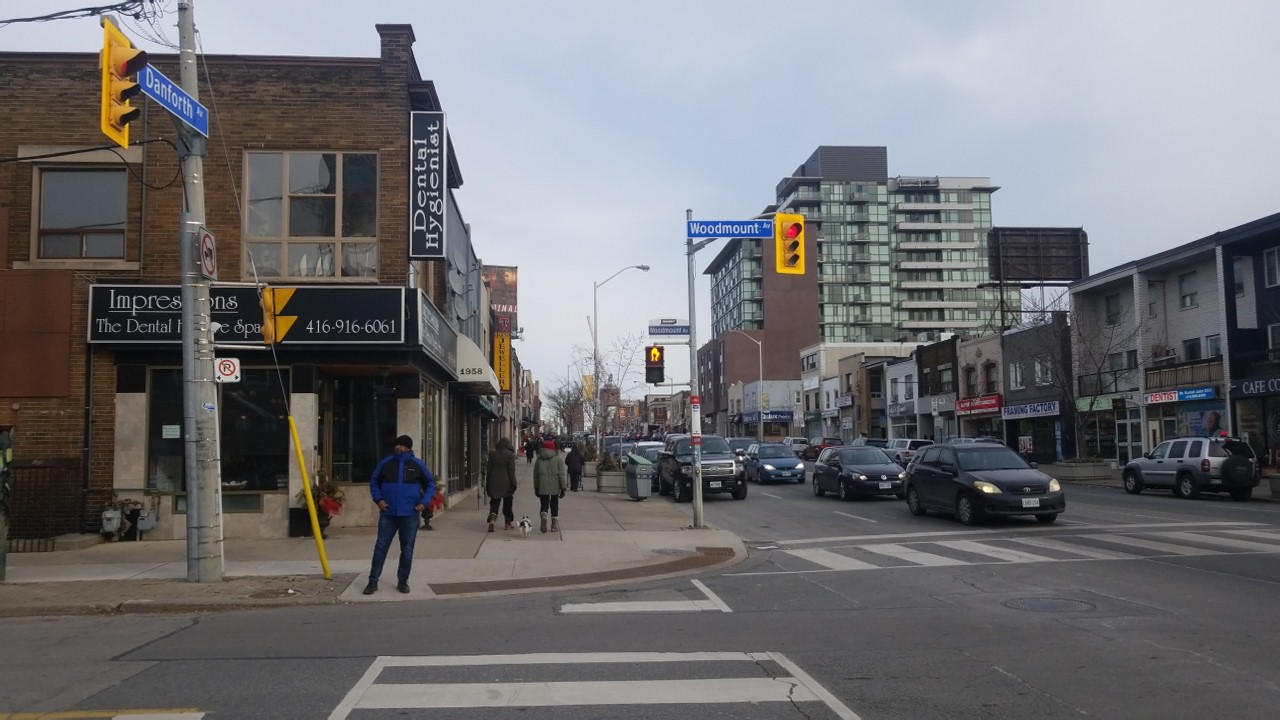light: (642, 343, 666, 385)
